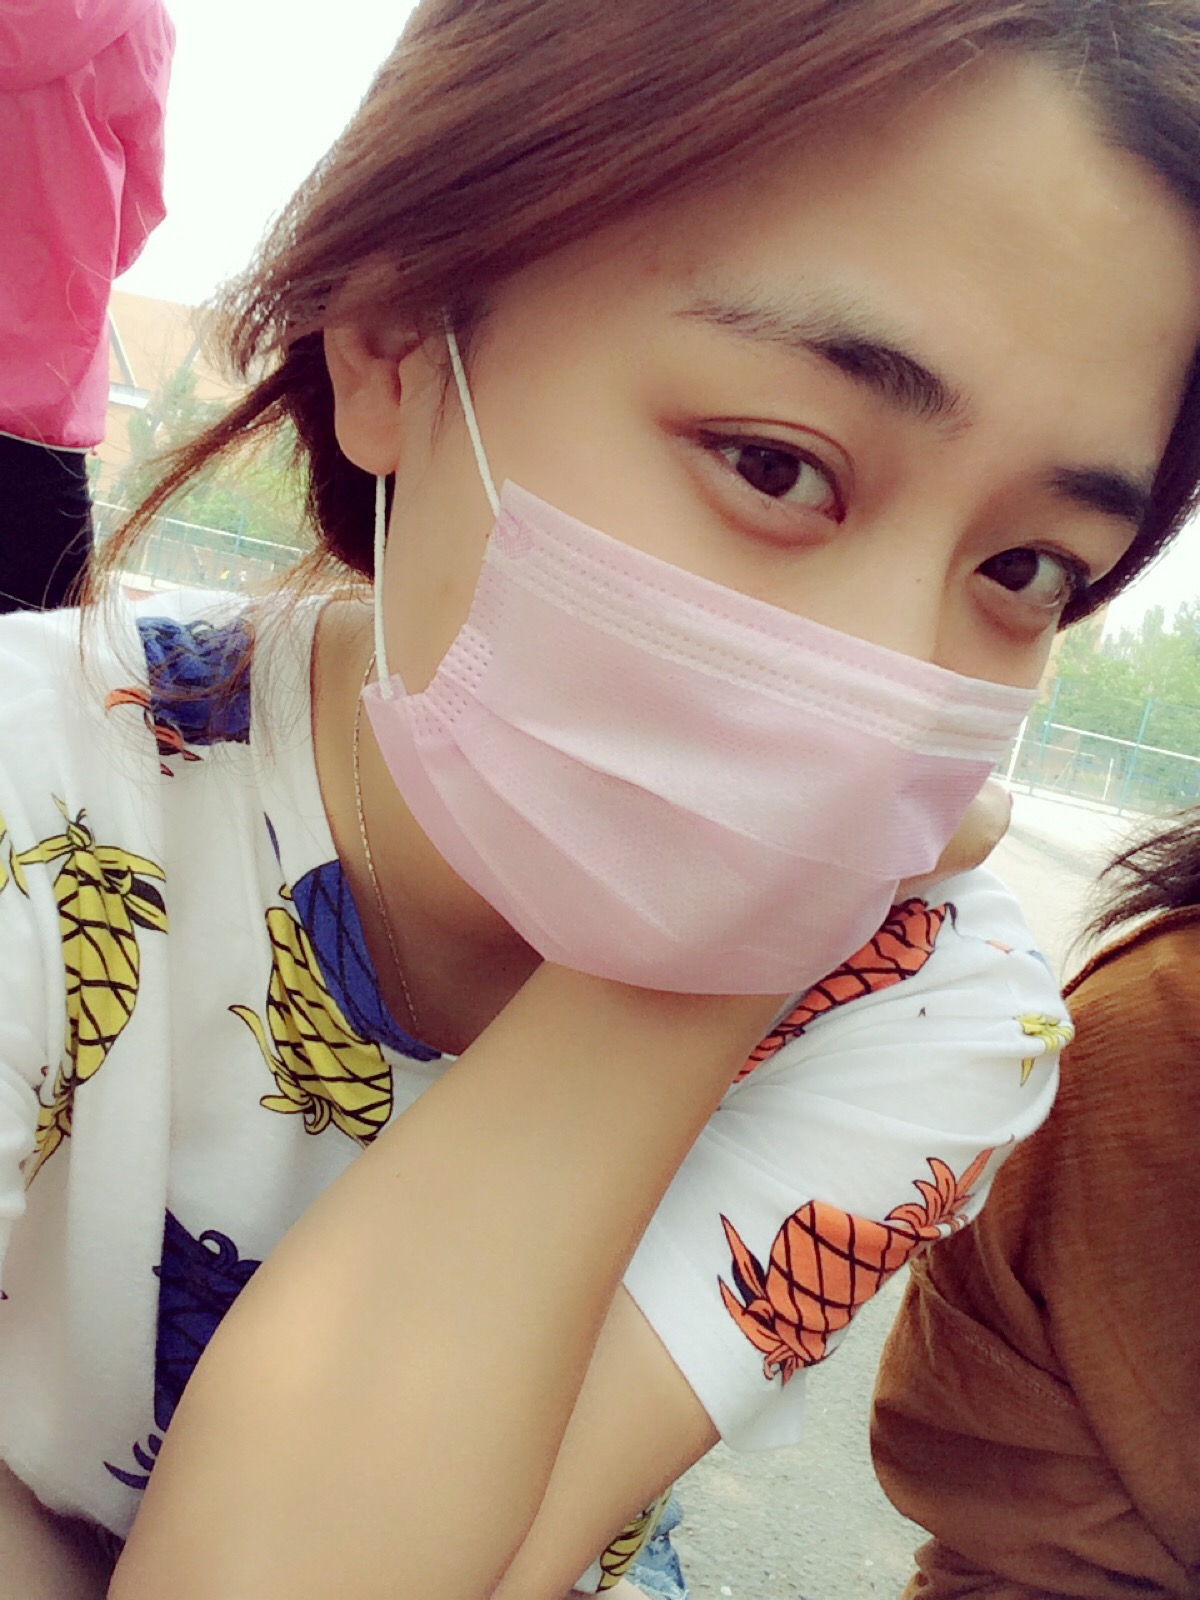face_mask: (450, 59, 1131, 993)
